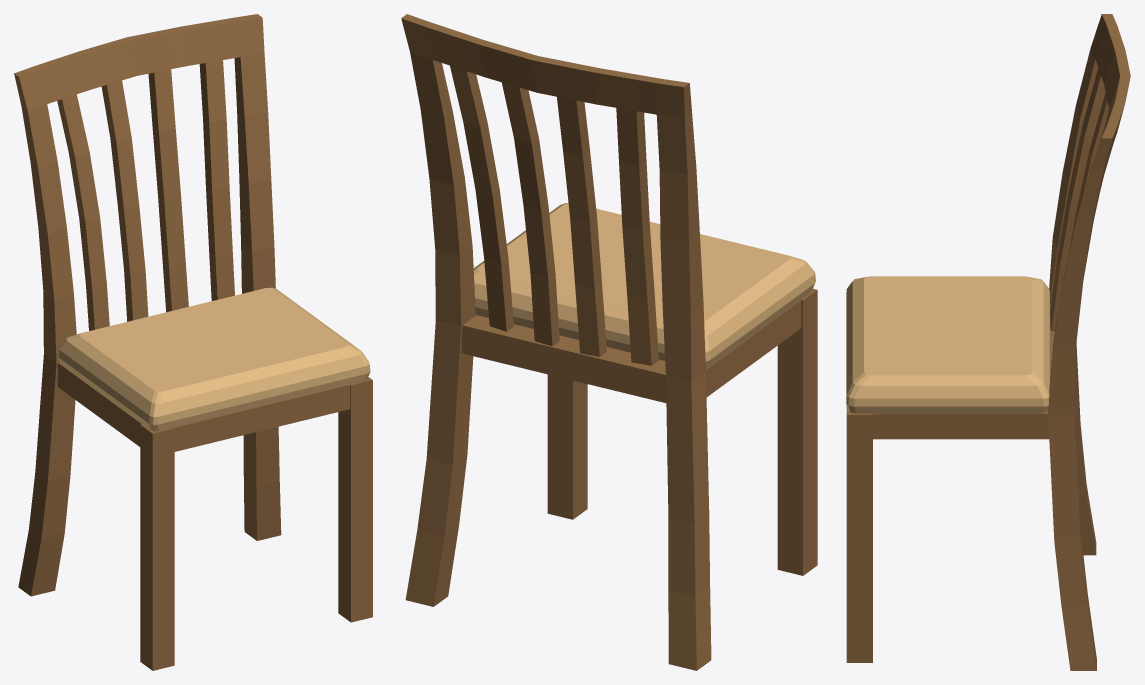
File: R_Chair.fbx
3 renders of one model, left to right at view 1: azimuth 30°, elevation 25°; view 2: azimuth 150°, elevation 25°; view 3: azimuth 270°, elevation 25°, orthographic. The views are drawn at different scales.
Visible parts, largest first — view 1: R_Chair; view 2: R_Chair; view 3: R_Chair.
Part boxes in pixels (x1=…): R_Chair: x1=14, y1=14, x2=372, y2=670; R_Chair: x1=401, y1=14, x2=817, y2=670; R_Chair: x1=846, y1=14, x2=1130, y2=670.
Size of the model in its own units: 421 by 396 by 815.
